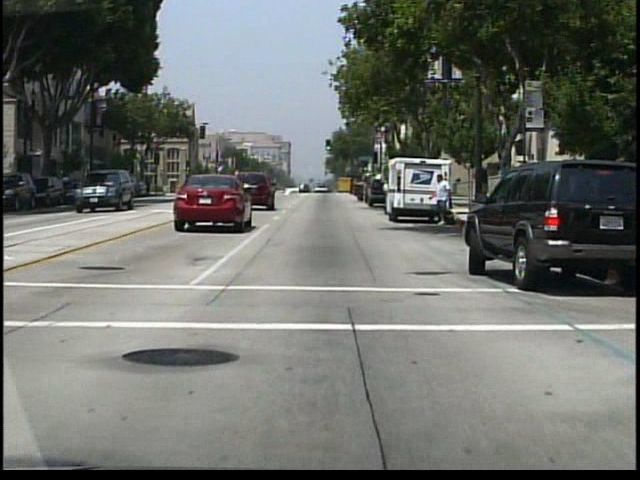person: (426, 172, 454, 228), (354, 174, 371, 206)
